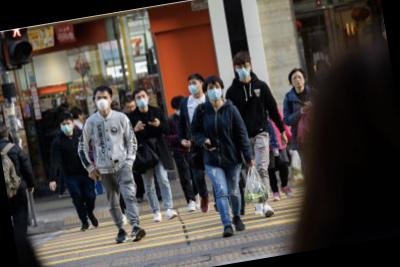with_mask: (94, 93, 112, 112), (205, 82, 223, 101), (186, 78, 203, 96), (234, 62, 251, 79), (135, 92, 150, 109), (59, 120, 73, 136)
without_mask: (291, 73, 306, 88), (123, 102, 138, 114)
